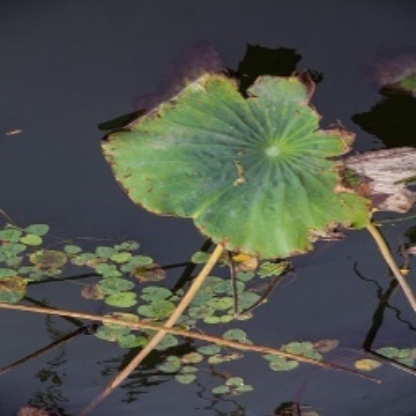leaf: (105, 64, 372, 264)
